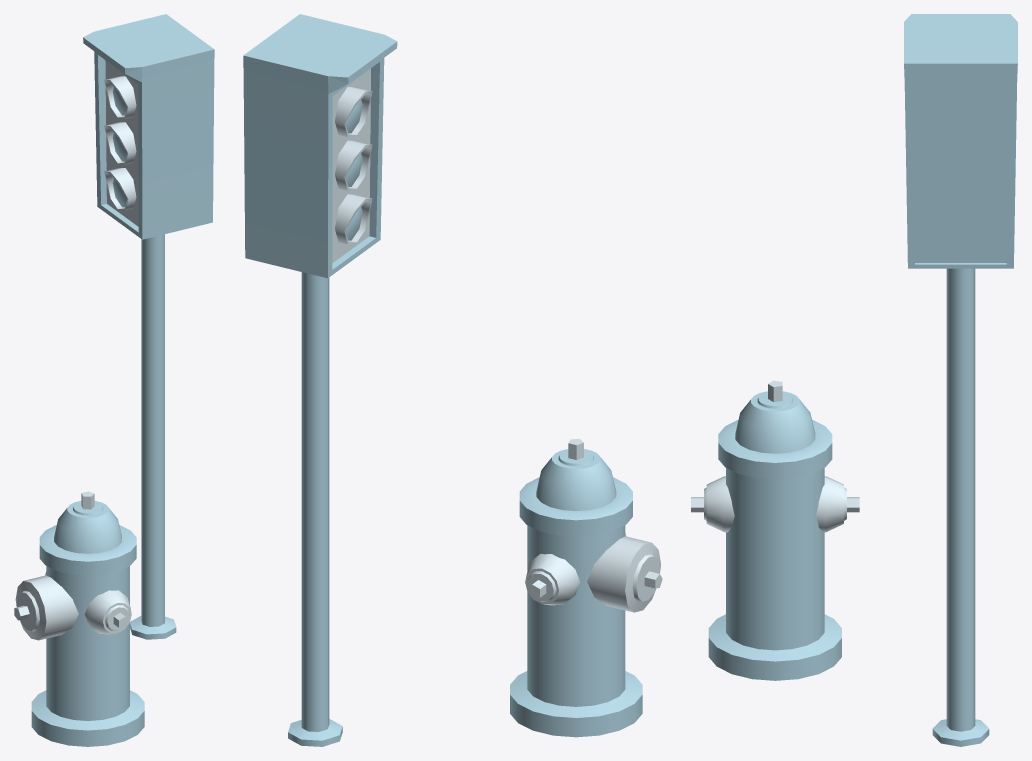
The model's file is sptp_fire_hydrant_01.FBX.
3 renders of one model, left to right at view 1: azimuth 30°, elevation 25°; view 2: azimuth 150°, elevation 25°; view 3: azimuth 270°, elevation 25°, orthographic. The views are drawn at different scales.
Visible parts, largest first — view 1: sptp_fire_hydrant_01; view 2: sptp_fire_hydrant_01; view 3: sptp_fire_hydrant_01.
Part boxes in pixels (bbox=[...]): sptp_fire_hydrant_01: bbox=[14, 14, 214, 746]; sptp_fire_hydrant_01: bbox=[243, 14, 662, 746]; sptp_fire_hydrant_01: bbox=[691, 14, 1017, 746].
Bounding box in the file's own units: 2.57 × 5.74 × 2.46.
